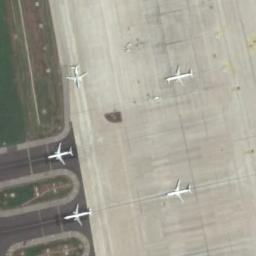Airplane: (165, 64, 198, 92), (63, 60, 90, 89), (160, 177, 191, 201), (63, 202, 91, 226), (47, 141, 74, 165)
